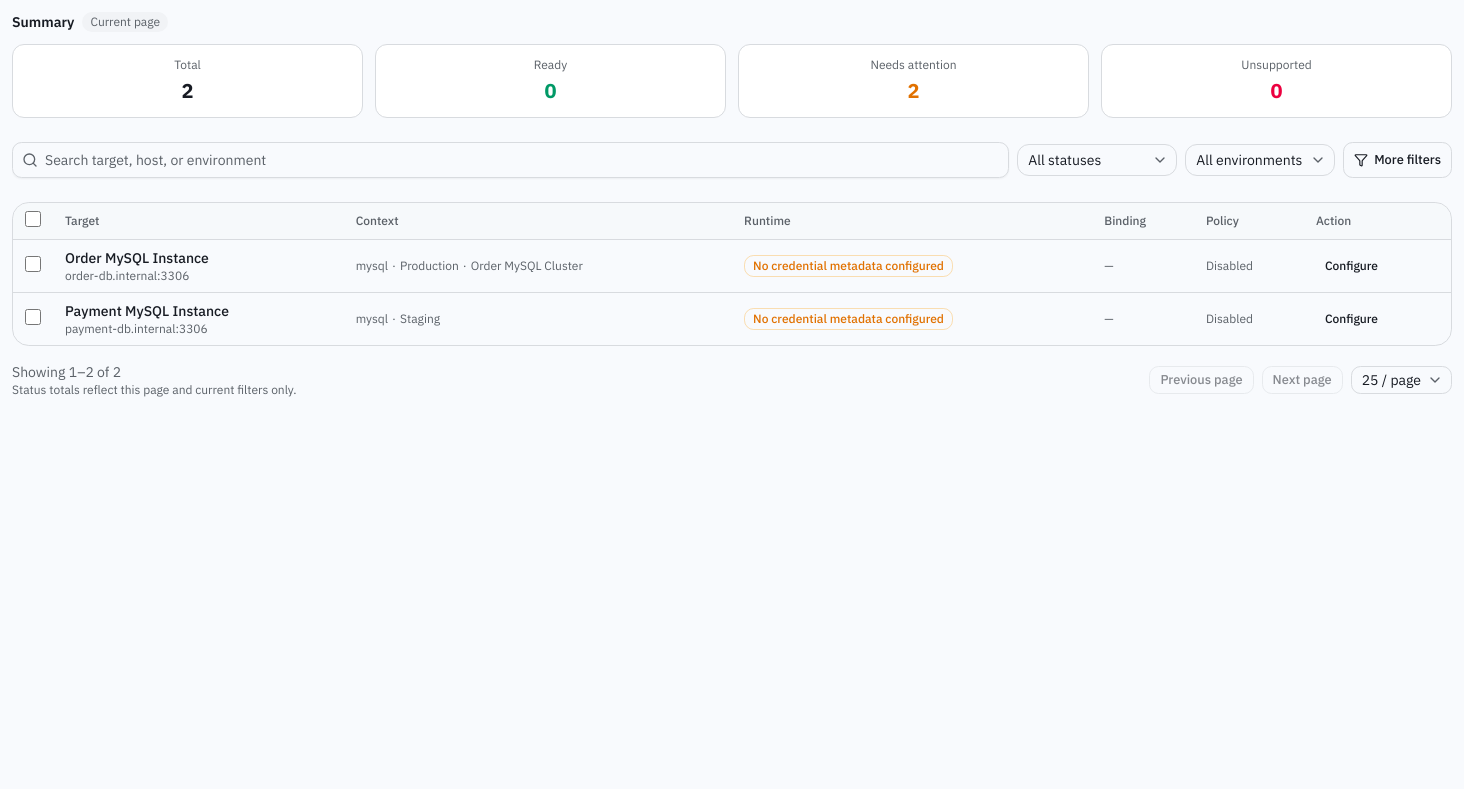
Scenario: QueryCredentialSettings — cross-target warning in bulk apply (P4) › shows warning when selected targets span multiple environments
Expected: the button "Order MySQL Instance" is shown, x1=65 y1=248 x2=209 y2=268
// Select all (Production + Staging).
Click the checkbox named "Select all" at (33, 219), box x1=25 y1=211 x2=41 y2=227
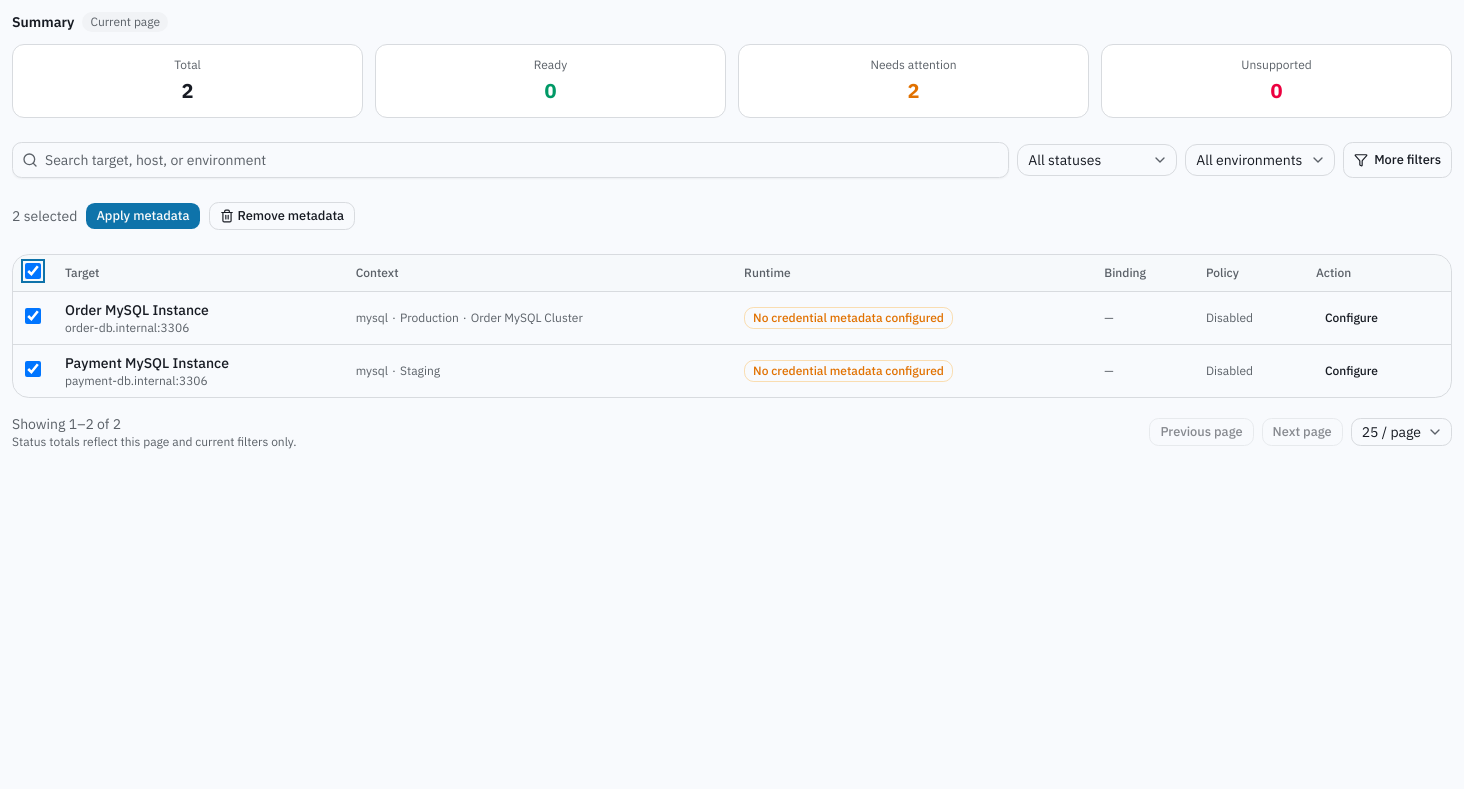
Click the button "Apply metadata" at (143, 216), box x1=85 y1=202 x2=200 y2=230
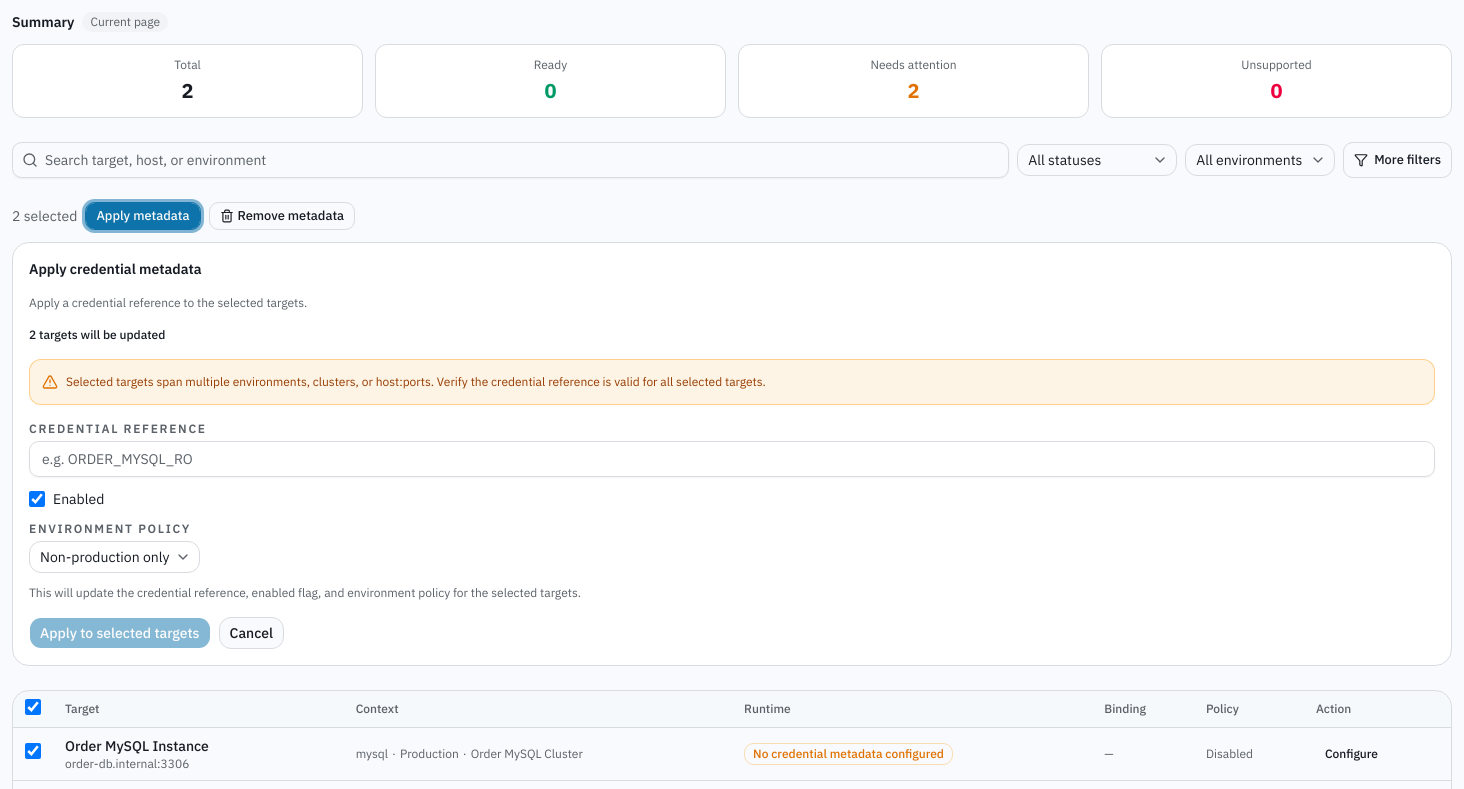
Result: the text "multiple environments" is shown at x1=66 y1=374 x2=766 y2=389
